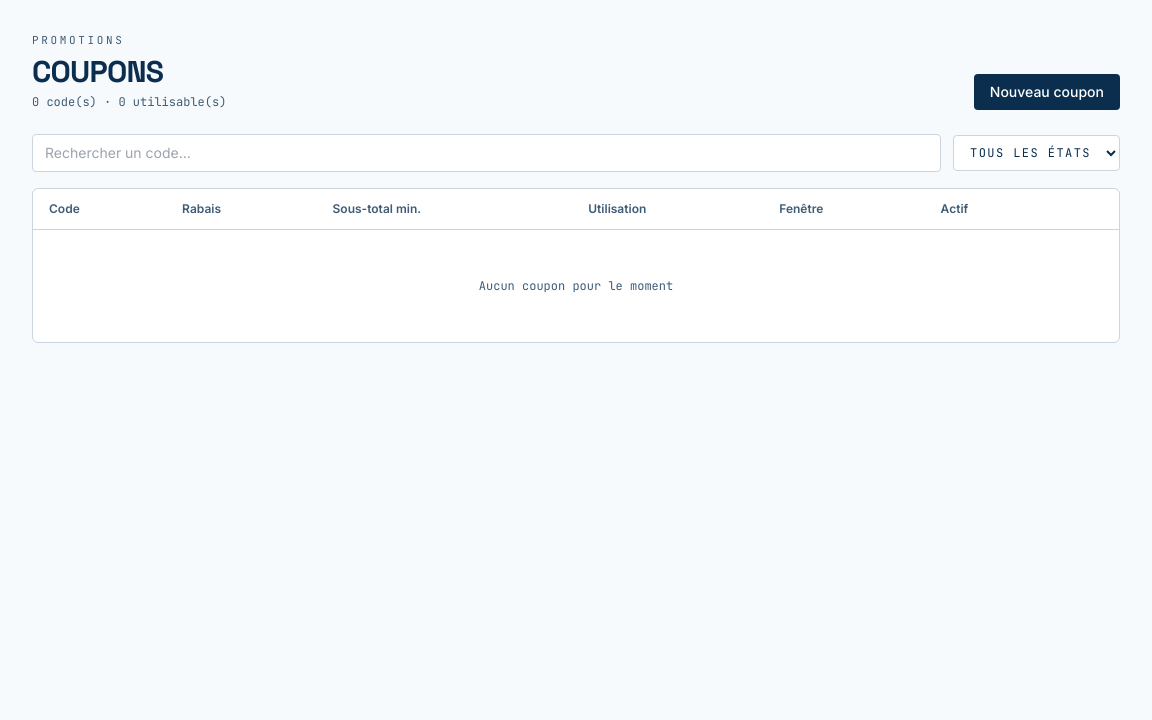
Test: le filtre d etat s accorde avec le badge affiche
The width and height of the screenshot is (1152, 720).
Select "Utilisable" in the dropdown with test id "coupons-status". click: [1036, 153]
box: [953,135,1120,171]
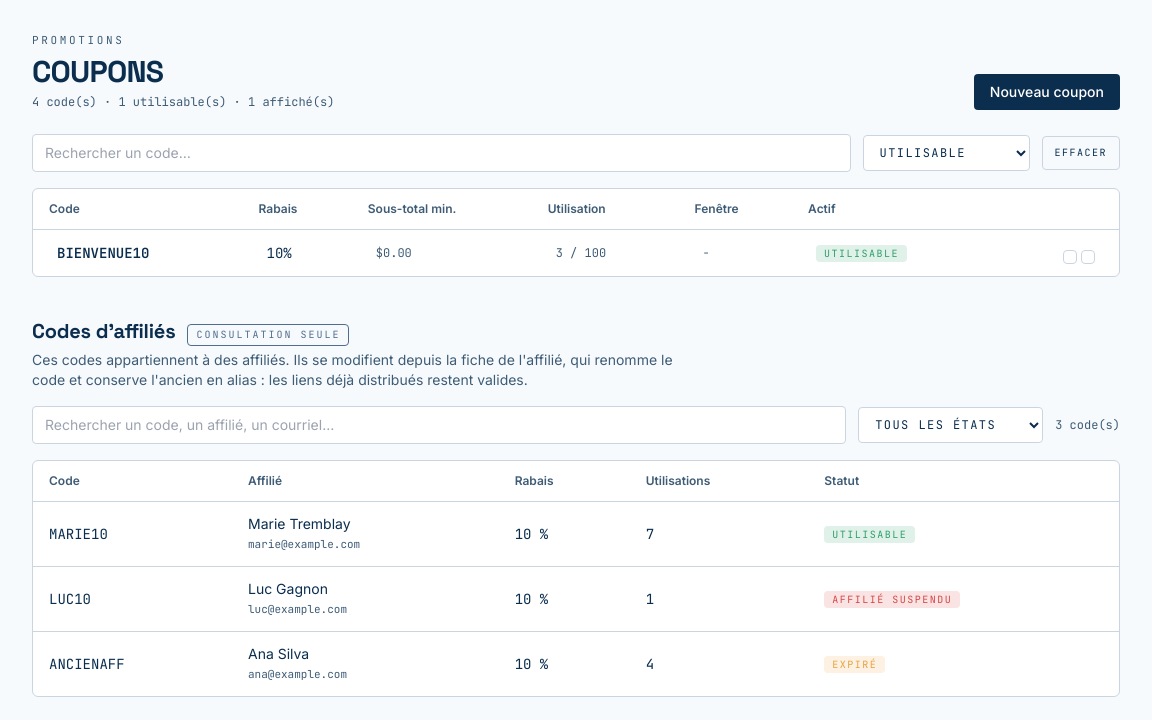
expect the row with test id "coupon-row-BIENVENUE10" is shown: met, box [33,229,1119,276]
Select "Expiré" in the dropdown with test id "coupons-status". click: [946, 153]
box: [862,135,1030,171]
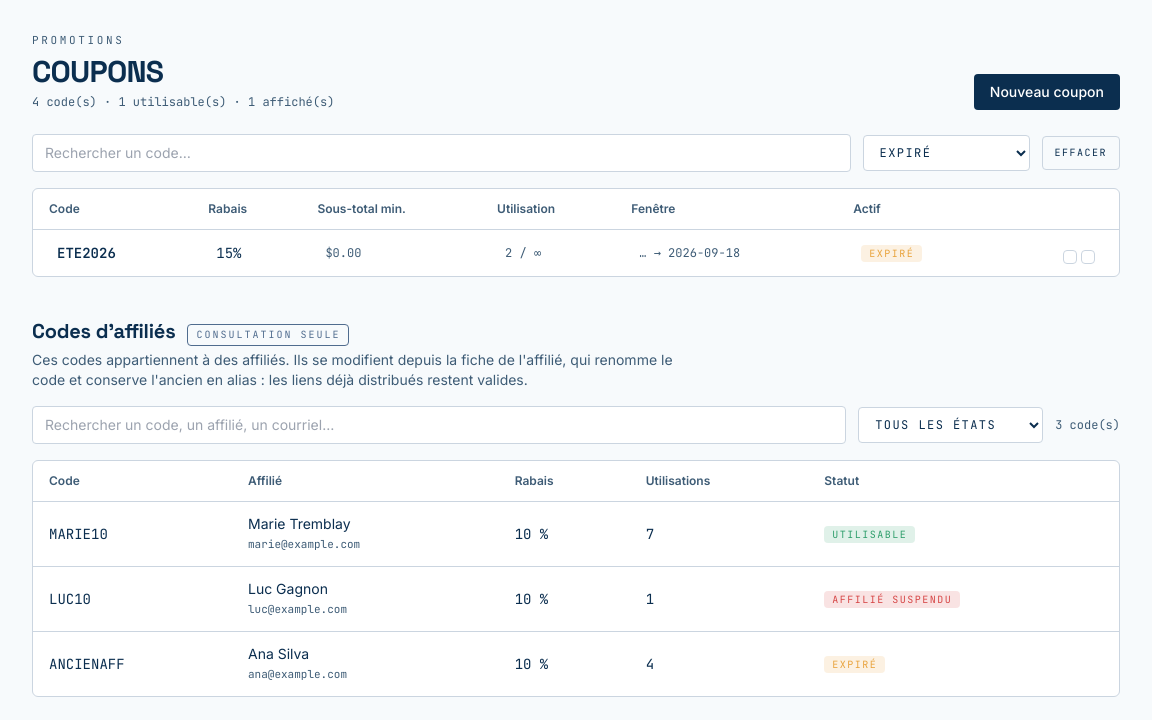
expect the row with test id "coupon-row-ETE2026" is shown: met, box [33,229,1119,276]
expect the row with test id "coupon-row-BIENVENUE10" is gone: met
